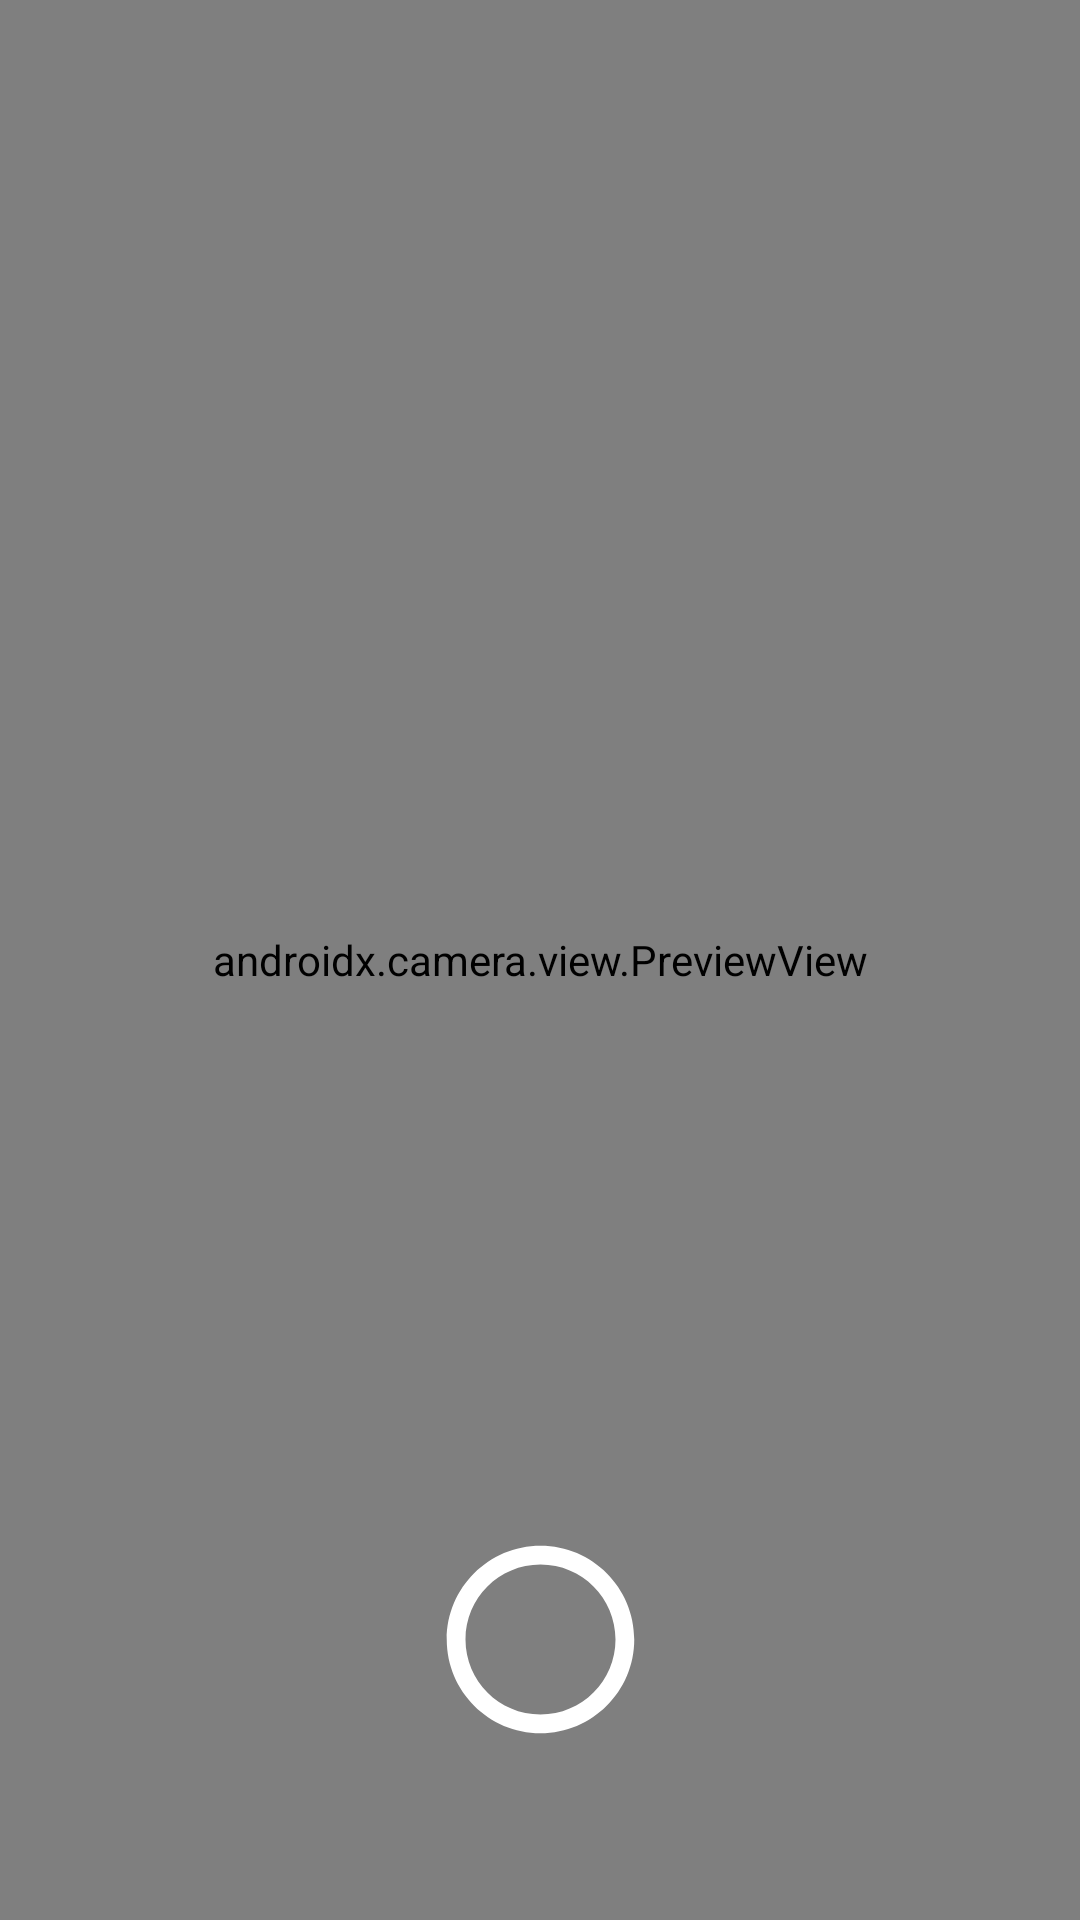

Icon bounding boxes for this 1080 × 1920 phone screenshot, format (x1, y1, x2, y2):
take face: (446, 1545, 635, 1734)
